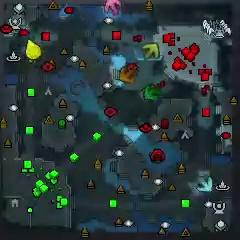p4: (25, 40, 41, 60)
x1: (105, 0, 121, 15)
x2: (142, 42, 159, 61)
x3: (197, 174, 213, 192)
x4: (145, 83, 161, 101)
x5: (119, 66, 135, 83)
